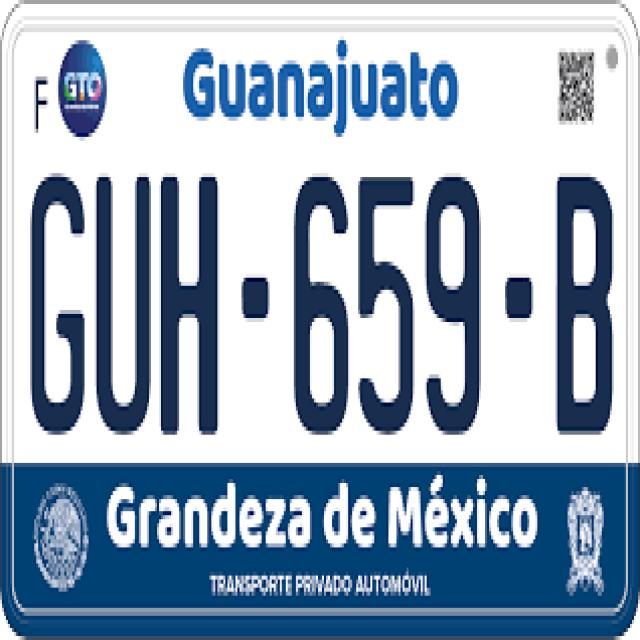placa: (12, 145, 632, 453)
